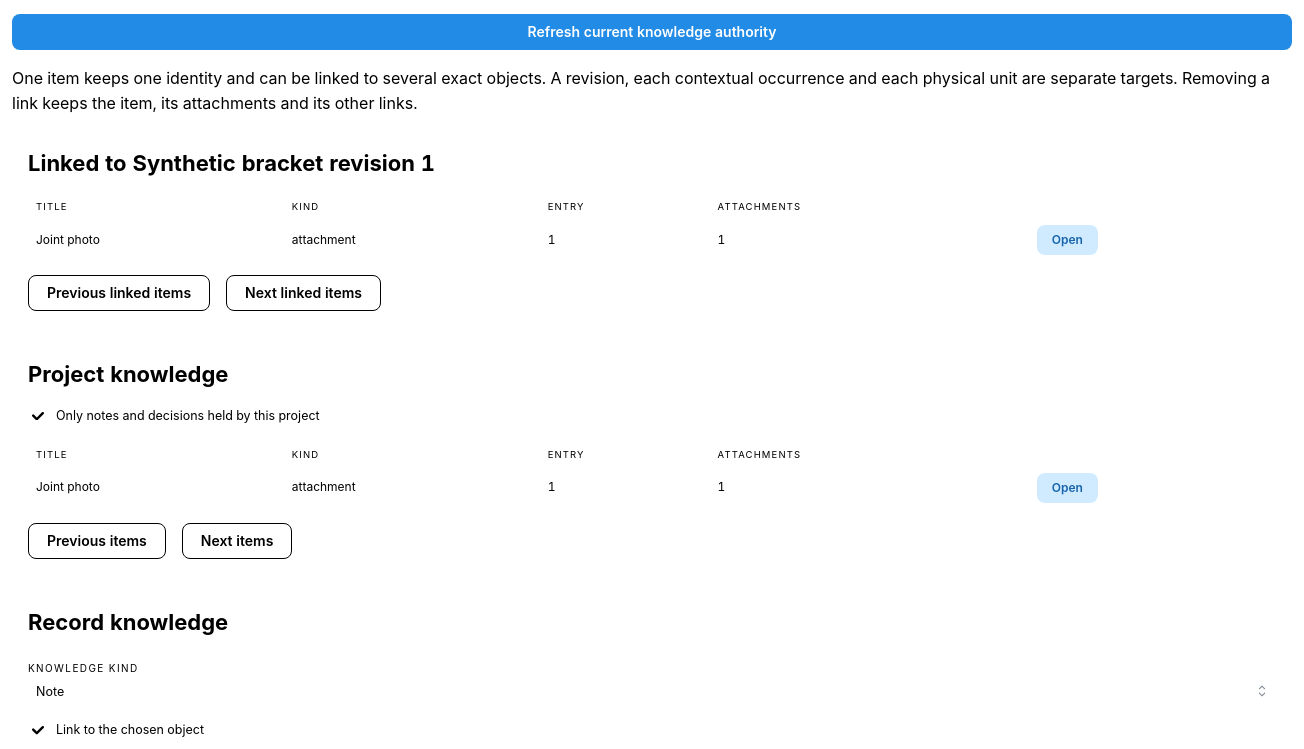
Scenario: relinking reports no duplicate and a stale revision shows the conflict
The width and height of the screenshot is (1304, 749).
Click the button with aria-label "Open Joint photo". click: click(1067, 240)
box: [1037,225,1098,255]
(page scrolled)
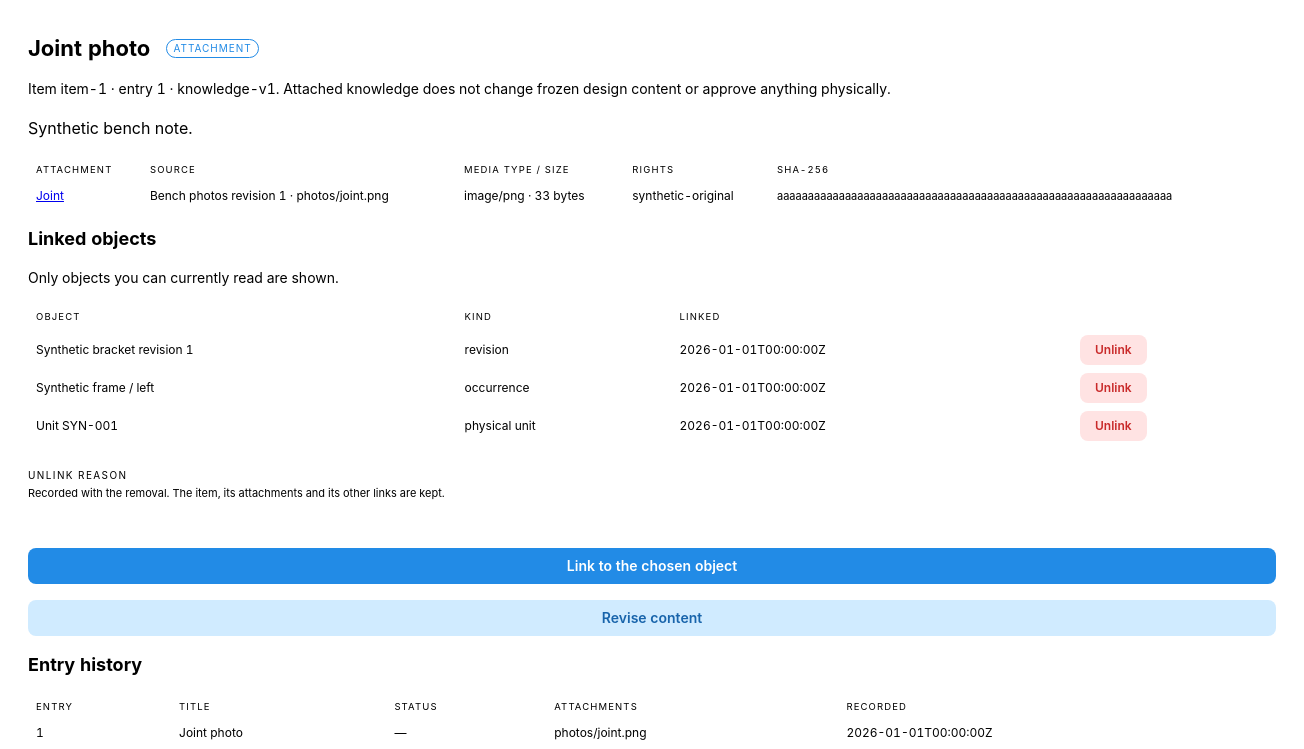
Click the button "Link to the chosen object". click: click(652, 566)
box: [28,548,1276,584]
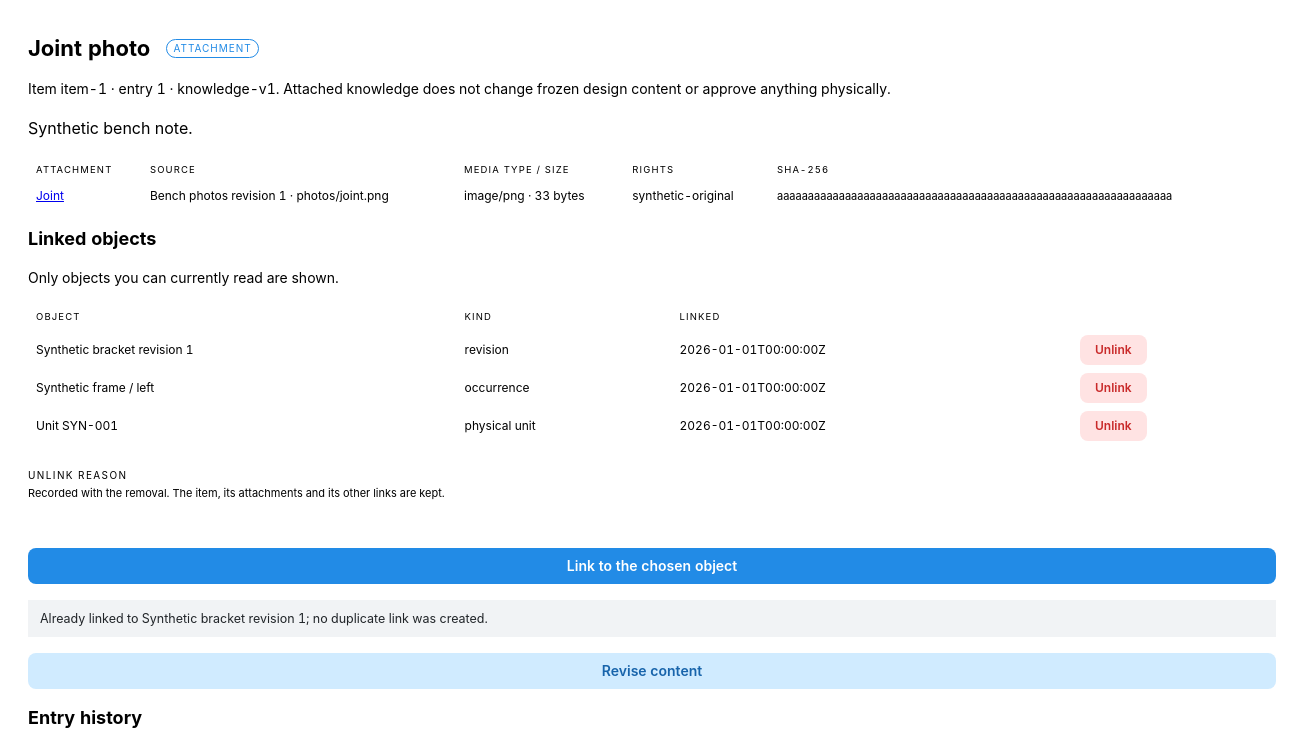
Check: the text "Already linked to Synthetic bracket revision 1; no duplicate link was created." is shown, box [40,611,488,626]
Click the button "Revise content". click: click(652, 671)
box: [28,653,1276,689]
(page scrolled)
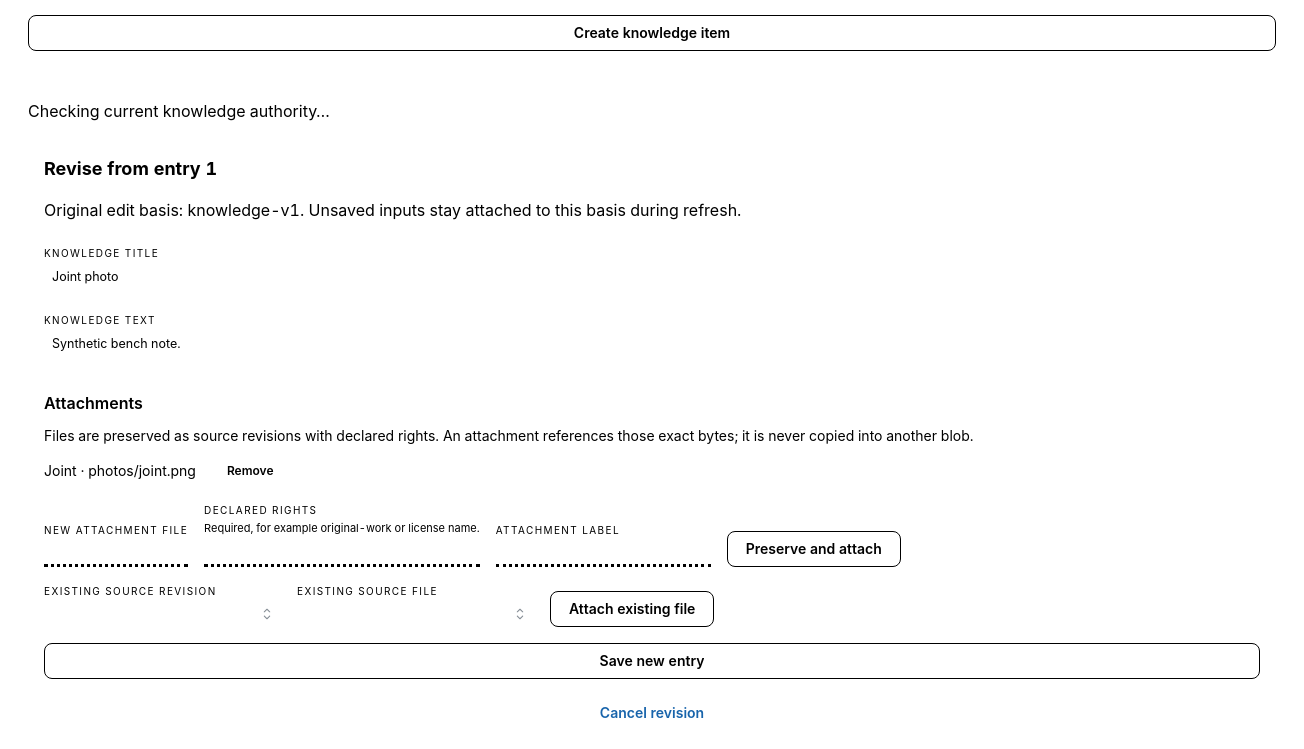
Replace the text in the field labelled "Knowledge title" with "Joint photo, retaken". click: (652, 277)
box: [44,264,1260,290]
(page scrolled)
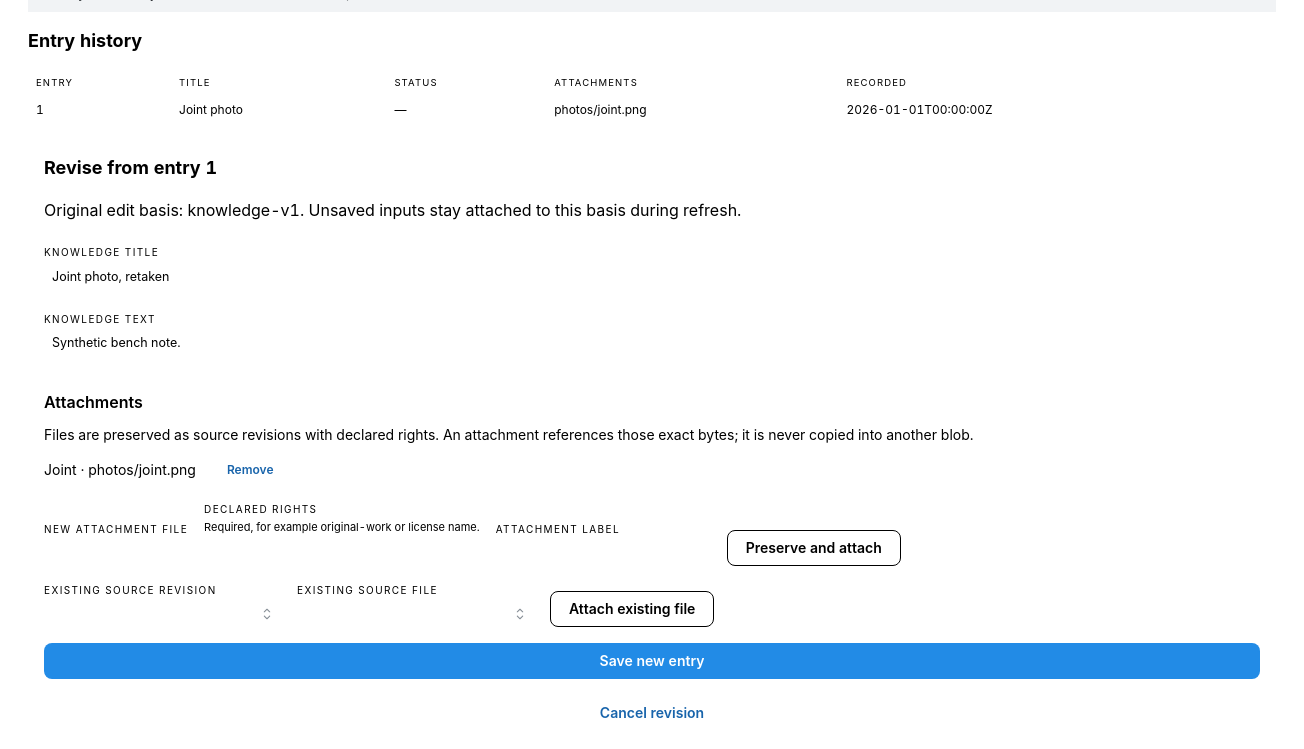
Check: the button "Save new entry" is enabled
Click the button "Save new entry". click: click(652, 661)
box: [44,643,1260,679]
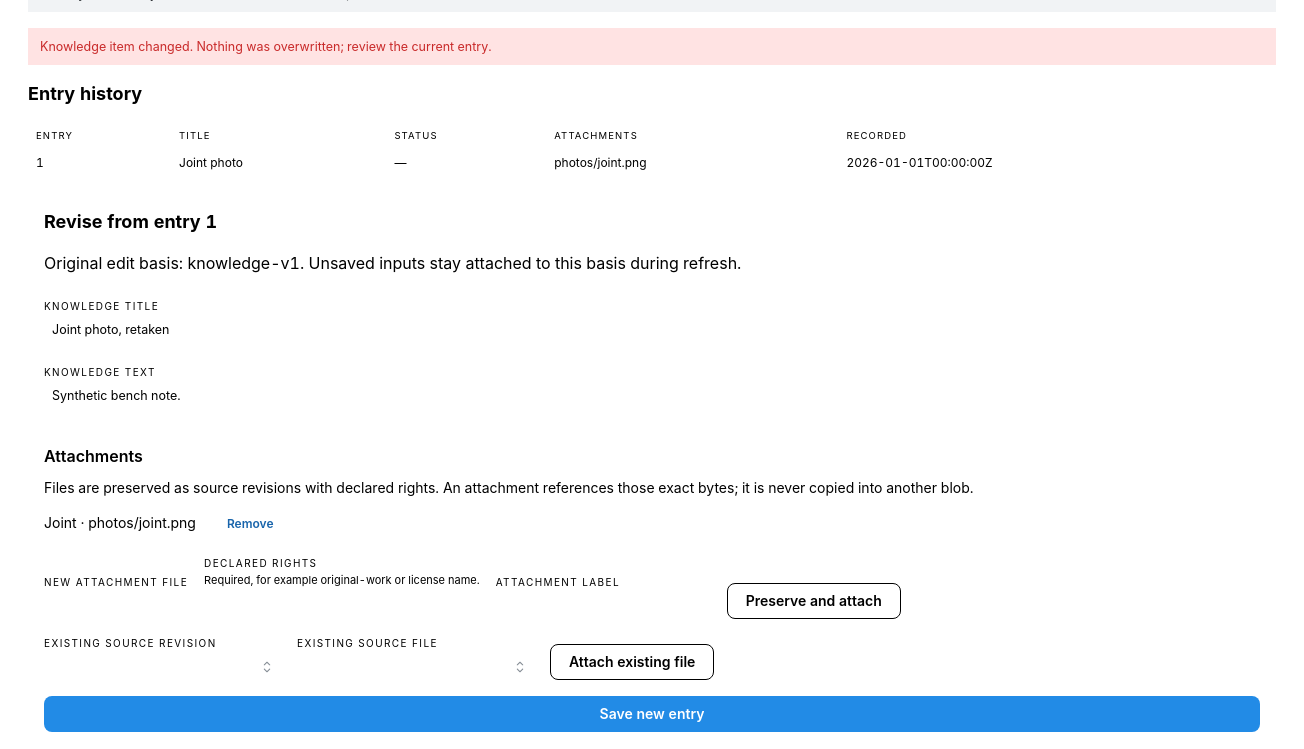
Check: the text "Knowledge item changed. Nothing was overwritten; review the current entry." is shown, box [40,39,492,54]
